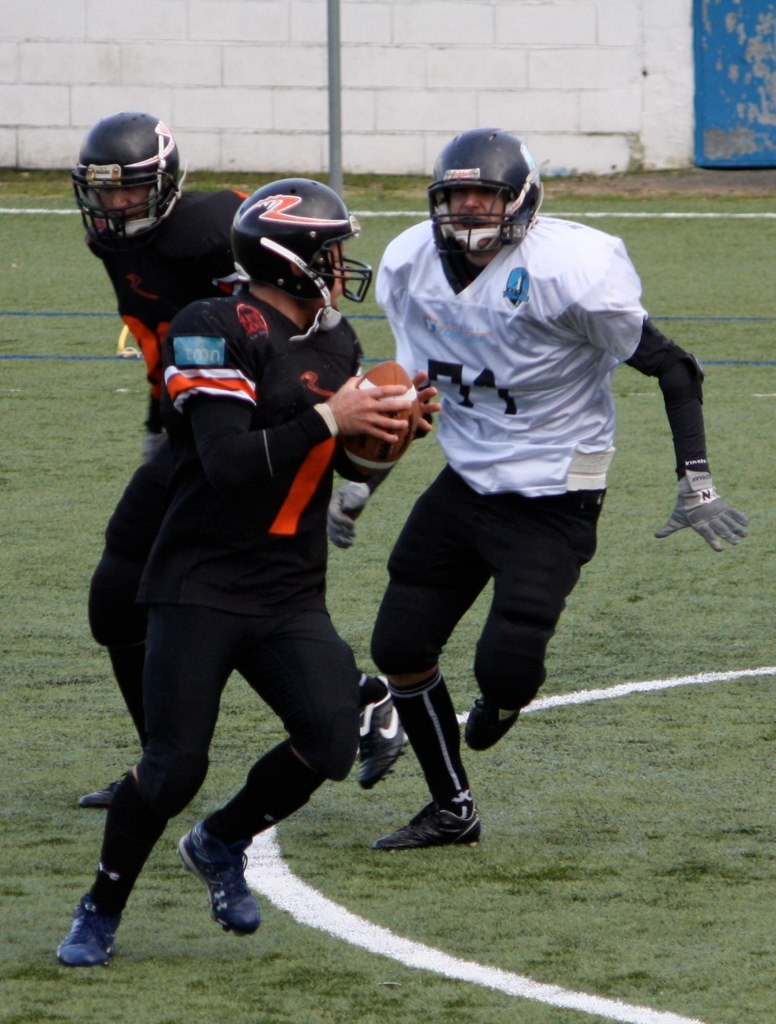Footwear: (173, 810, 269, 954), (367, 778, 475, 860), (353, 649, 415, 783), (450, 686, 532, 771), (62, 863, 115, 978)
